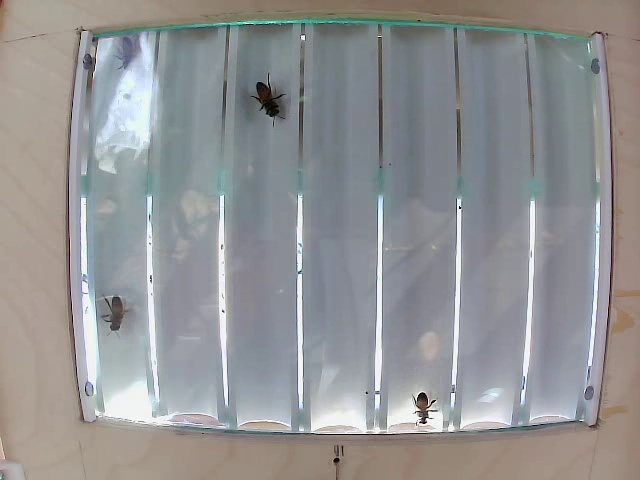bee: (247, 72, 290, 130), (100, 287, 133, 334), (112, 36, 139, 78), (411, 384, 437, 427)
